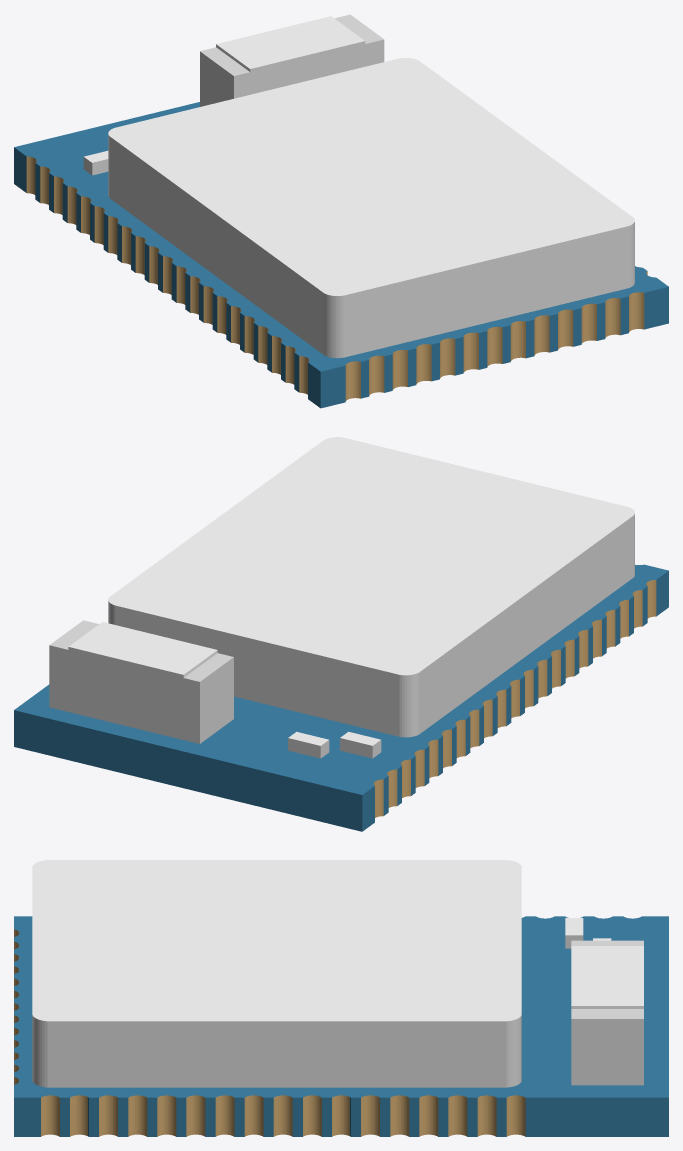
Rendered from BC127_XTRA_PASTE.dae.
The picture shows the model from 3 angles, top to bottom: view 1: azimuth 30°, elevation 25°; view 2: azimuth 150°, elevation 25°; view 3: azimuth 270°, elevation 25°; orthographic projection. The views are drawn at different scales.
Visible parts, largest first — view 1: BC127_XTRA_PASTE; view 2: BC127_XTRA_PASTE; view 3: BC127_XTRA_PASTE.
Part boxes in pixels (bbox=[...]): BC127_XTRA_PASTE: bbox=[14, 14, 668, 408]; BC127_XTRA_PASTE: bbox=[14, 437, 668, 831]; BC127_XTRA_PASTE: bbox=[14, 860, 668, 1136].
Bounding box in the file's own units: 11.8 × 18 × 3.3.
